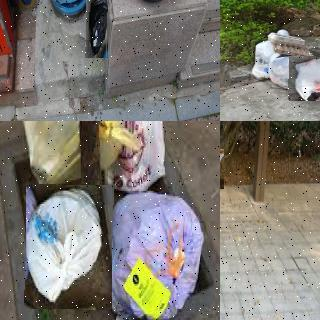Garbage: (103, 192, 203, 320), (25, 184, 113, 310), (21, 121, 126, 181), (107, 121, 170, 191), (249, 37, 287, 82), (268, 53, 312, 89), (288, 56, 320, 101), (86, 0, 109, 58)
